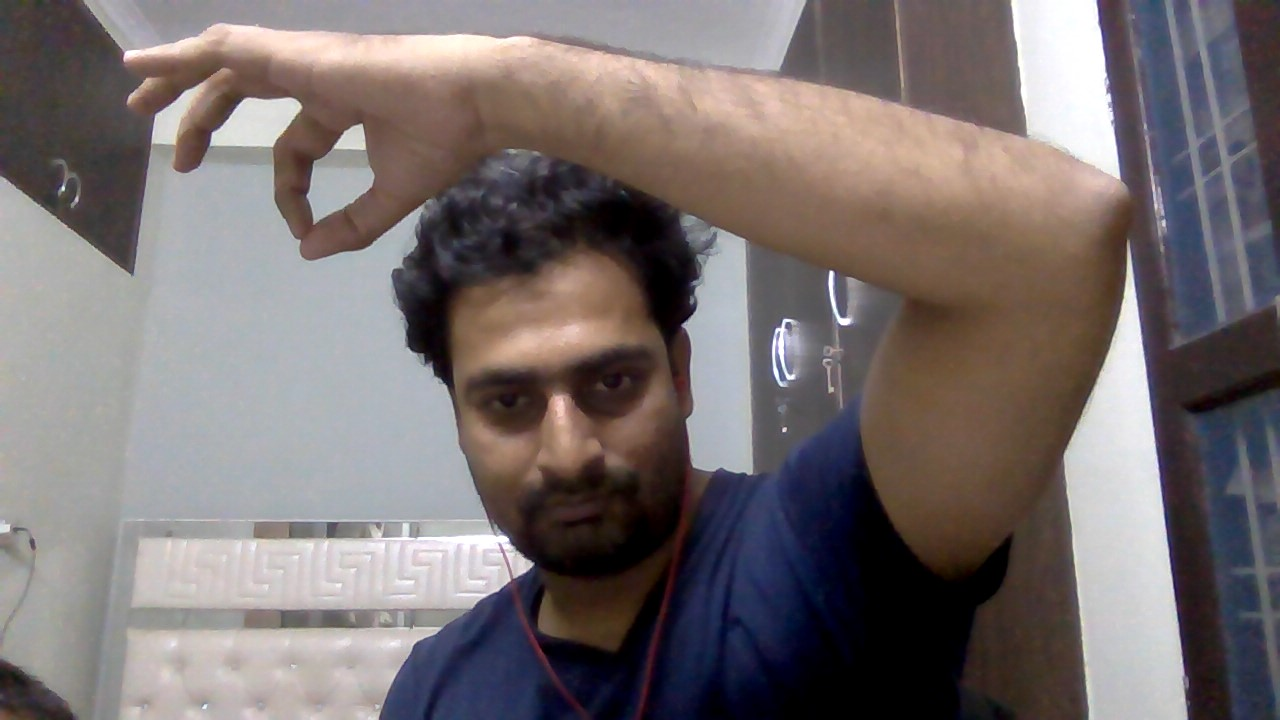Copy: (109, 17, 496, 283)
